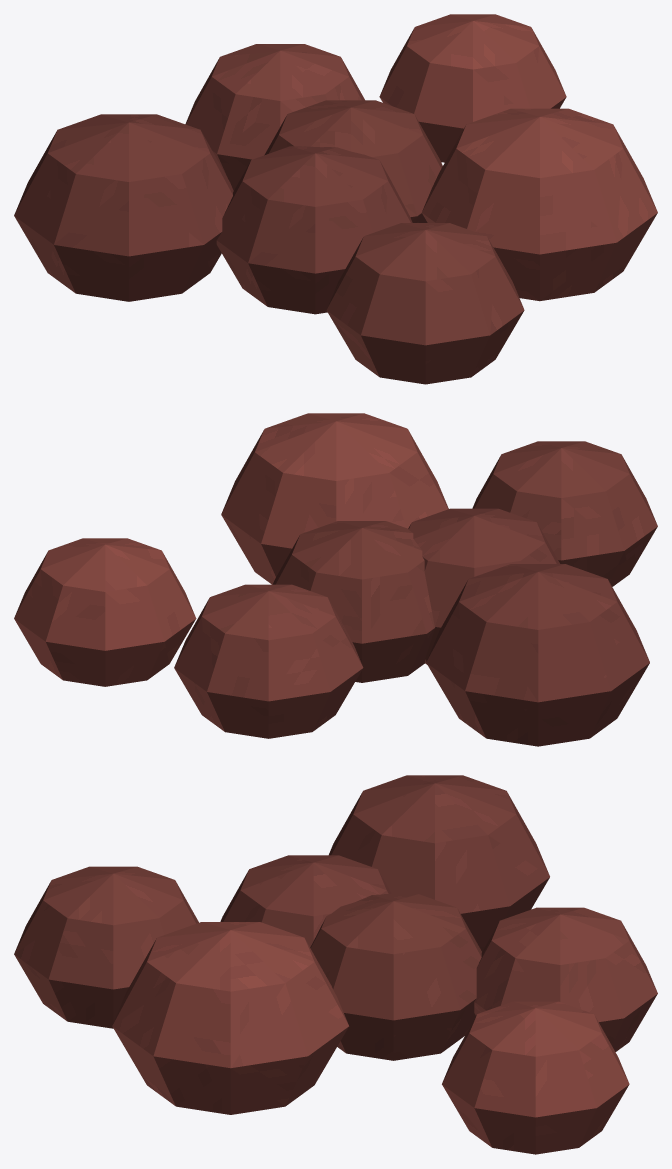
The model's file is spicebush_berries_smoked.glb.
3 renders of one model, top to bottom at view 1: azimuth 30°, elevation 25°; view 2: azimuth 150°, elevation 25°; view 3: azimuth 270°, elevation 25°, orthographic. The views are drawn at different scales.
Parts seen in each view (by area): view 1: block_individual berry (×7); view 2: block_individual berry (×7); view 3: block_individual berry (×7).
Part boxes in pixels (x1,y1,x2,y2): block_individual berry (×7): (14, 14, 657, 384); block_individual berry (×7): (14, 413, 657, 746); block_individual berry (×7): (14, 775, 657, 1154).
Bounding box in the file's own units: 0.0325 × 0.00945 × 0.0316.
1 material, 1 textured.
